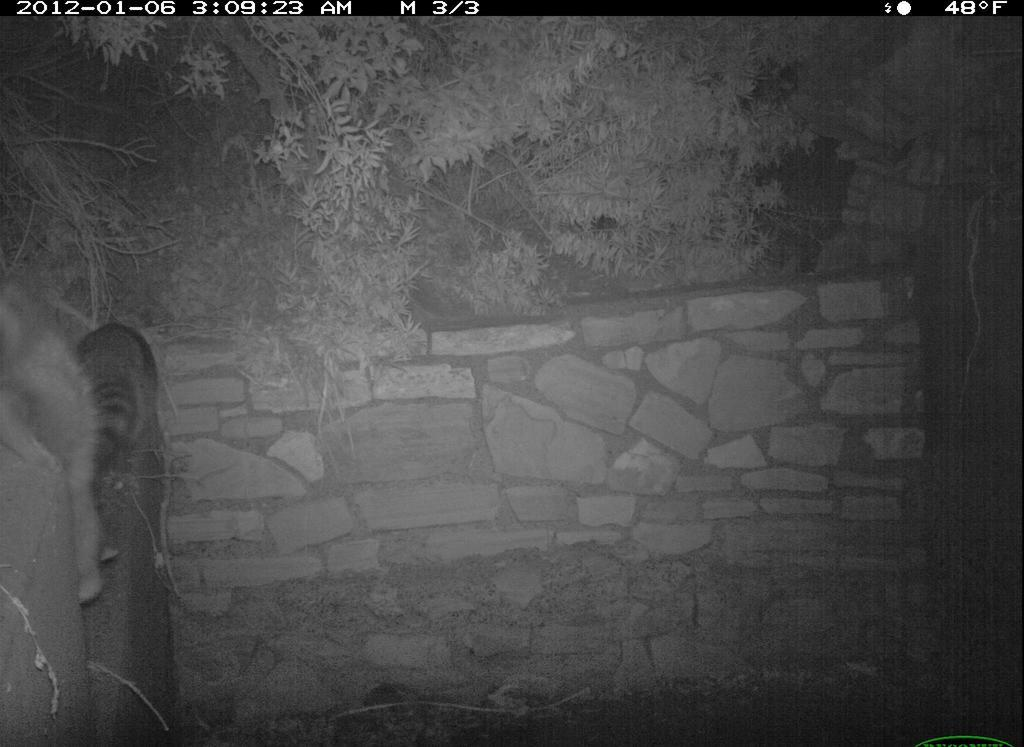raccoon: (2, 268, 142, 603)
